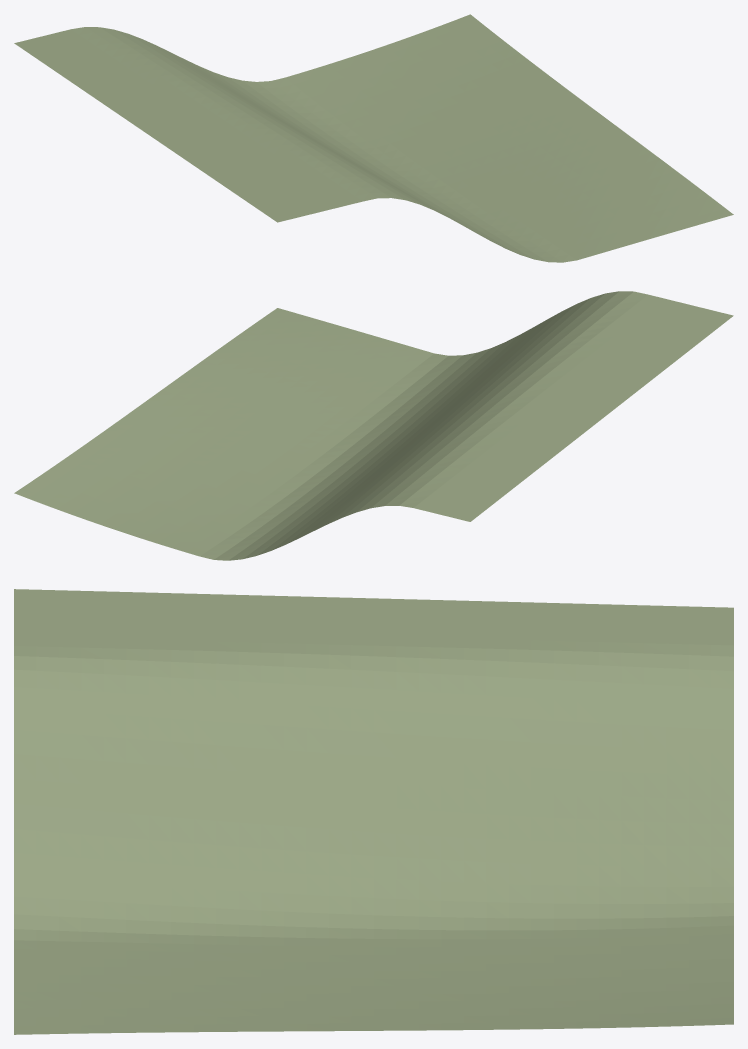
Rendered from alpine-3-9.glb.
The picture shows the model from 3 angles, top to bottom: view 1: azimuth 30°, elevation 25°; view 2: azimuth 150°, elevation 25°; view 3: azimuth 270°, elevation 25°; orthographic projection. The views are drawn at different scales.
Parts seen in each view (by area): view 1: alpine-3-9; view 2: alpine-3-9; view 3: alpine-3-9.
Part boxes in pixels (x1,y1,x2,y2): alpine-3-9: [14, 14, 733, 262]; alpine-3-9: [14, 291, 733, 560]; alpine-3-9: [14, 589, 733, 1034].
Bounding box in the file's own units: 256 × 63.15 × 256.
